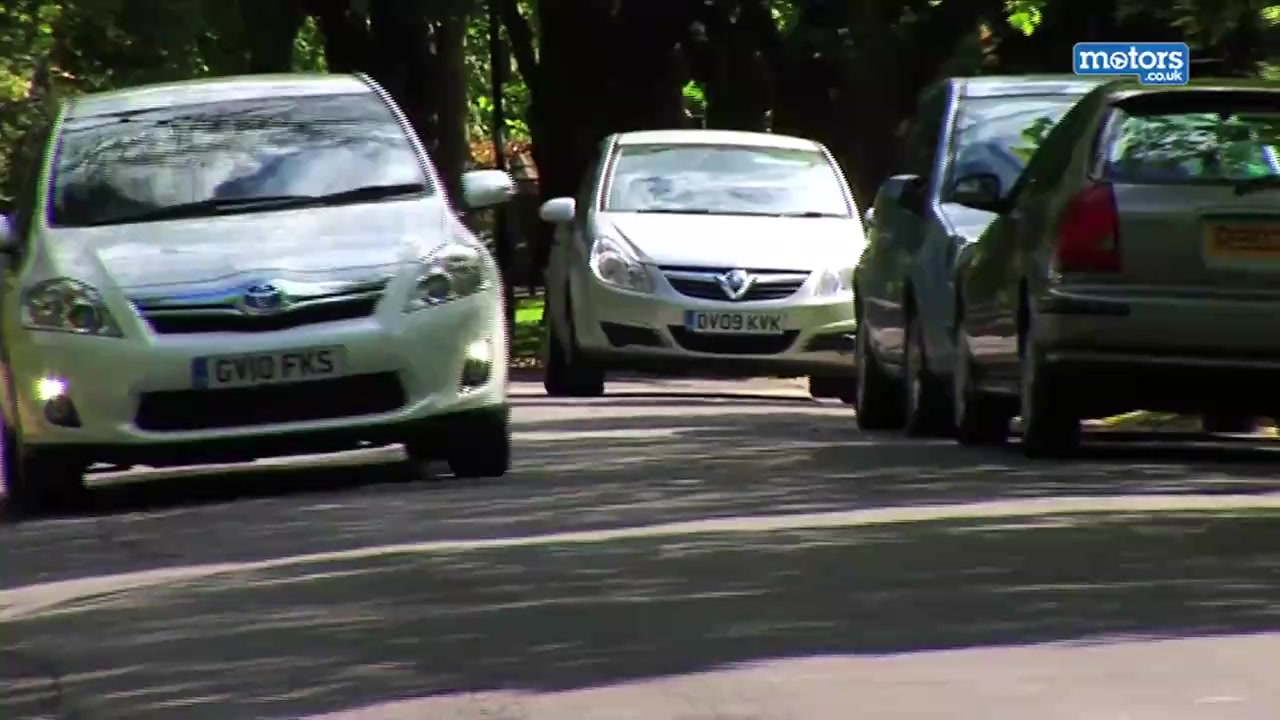car: (2, 73, 518, 488), (947, 86, 1280, 436), (854, 73, 1124, 435), (534, 124, 874, 396)
